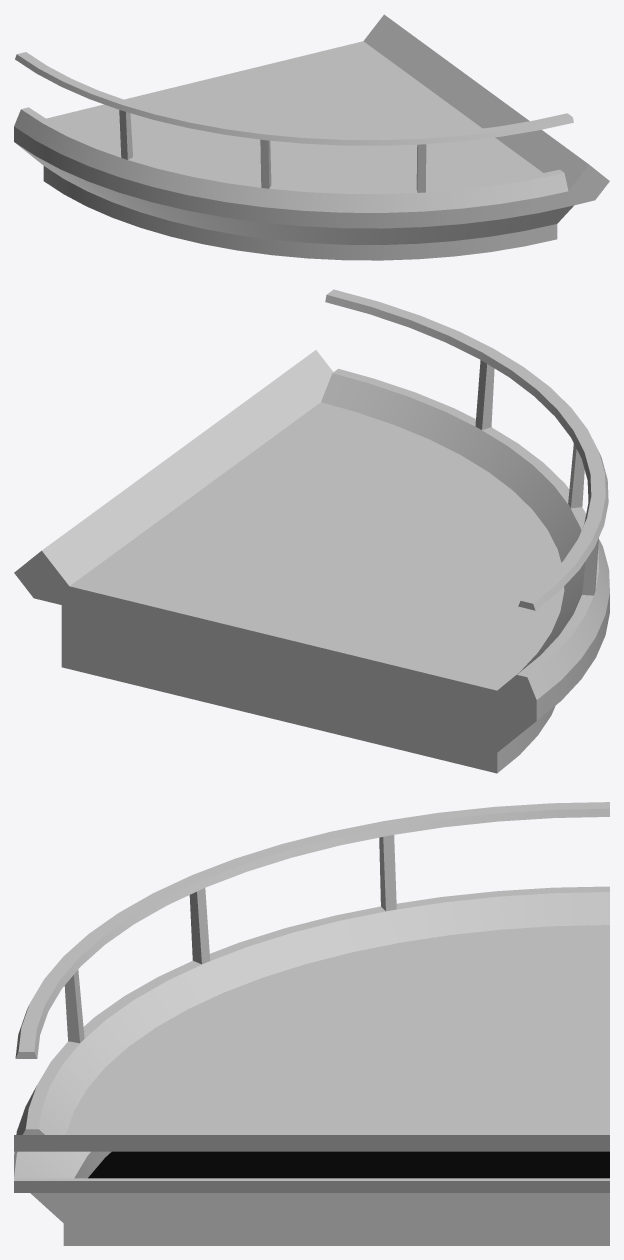
Rendered from Plateform_Angle_04.FBX.
3 views of the same model, one above another, from view 1: azimuth 30°, elevation 25°; view 2: azimuth 150°, elevation 25°; view 3: azimuth 270°, elevation 25° (orthographic). The views are drawn at different scales.
Parts seen in each view (by area): view 1: Plateform_Angle_04, Floor; view 2: Plateform_Angle_04, Floor; view 3: Plateform_Angle_04, Floor, Bottom.
Boxes of the visible parts, x1,y1,x2,y2 form: Plateform_Angle_04: (14,14,609,260); Floor: (46,41,542,190); Plateform_Angle_04: (14,289,609,773); Floor: (70,402,564,690); Plateform_Angle_04: (14,802,609,1245); Floor: (66,925,609,1134); Bottom: (88,1151,609,1178).
Size of the model in its own units: 6.6 by 2.15 by 6.
